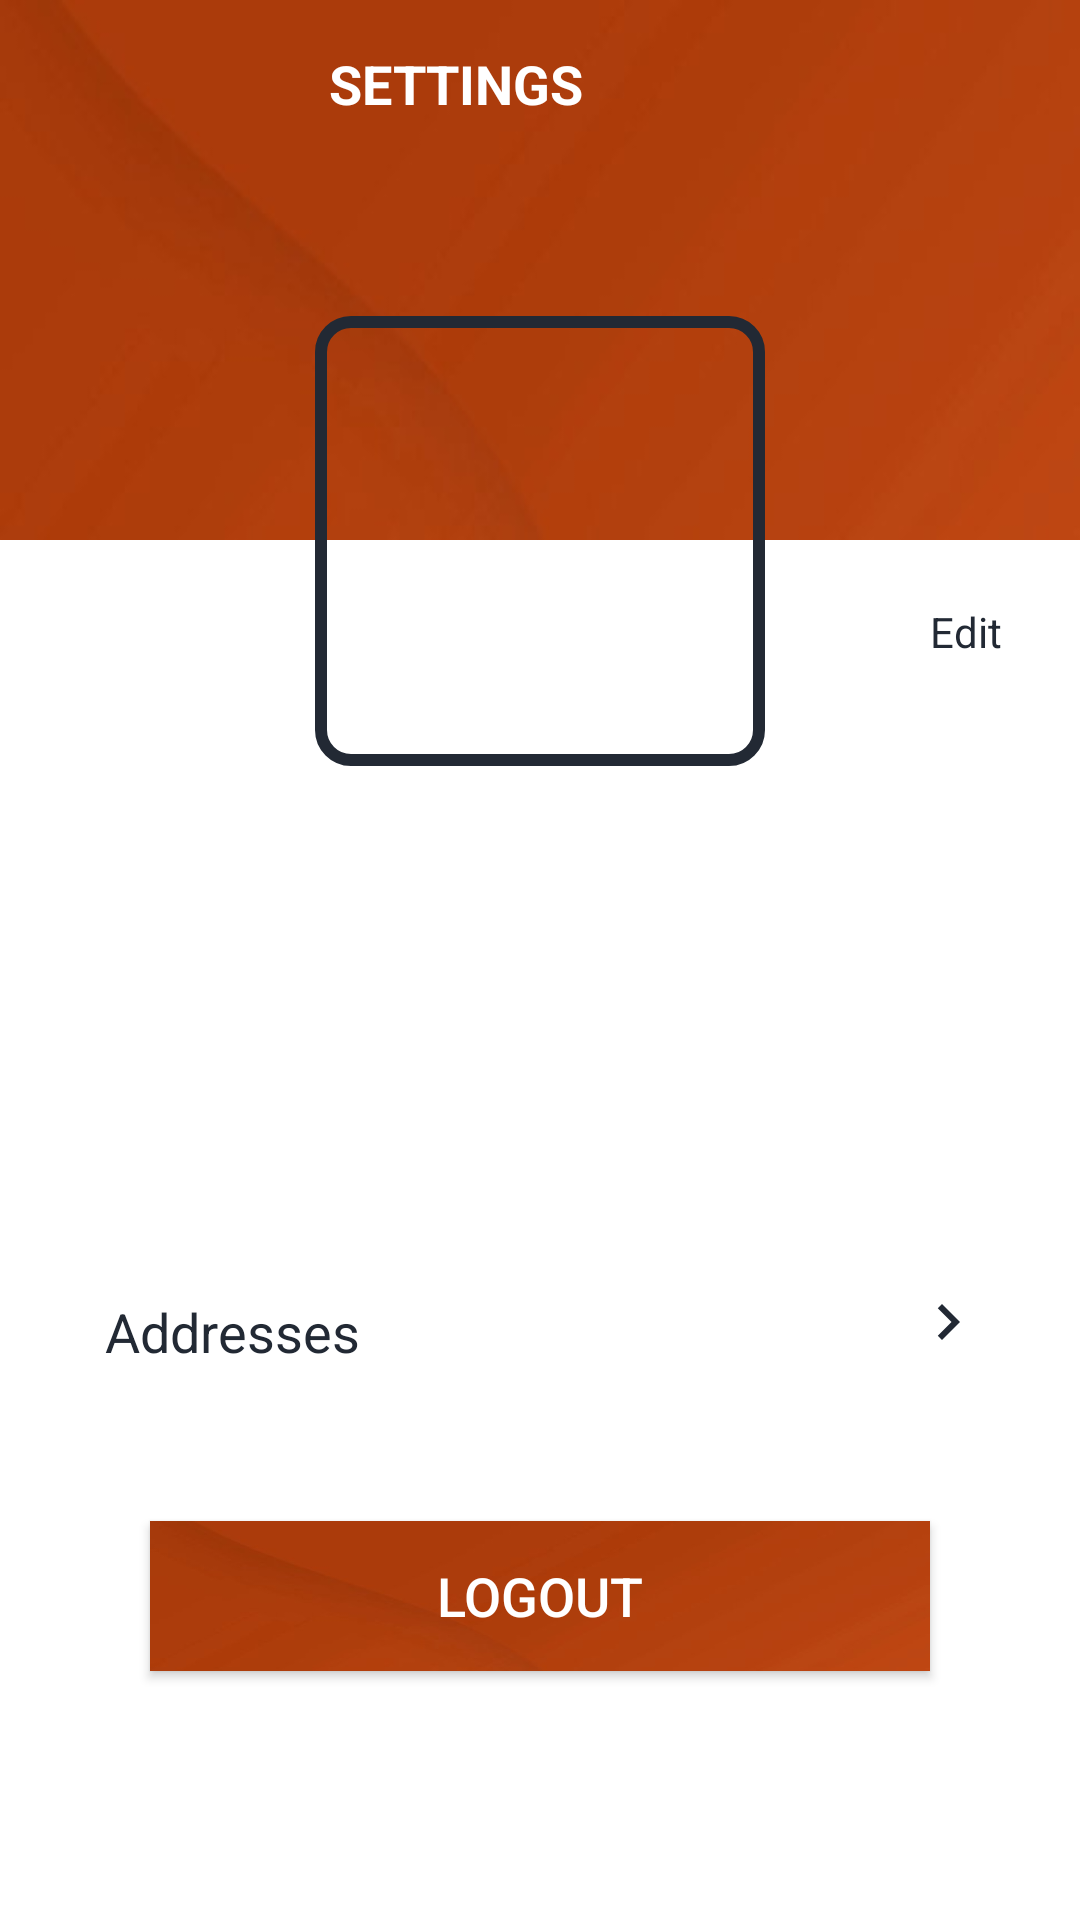

Named icons in this screenshot (1080px x 1920px) and their bounding boxes, (x1, y1, x2, y2):
chevron right: (938, 1304, 960, 1340)
